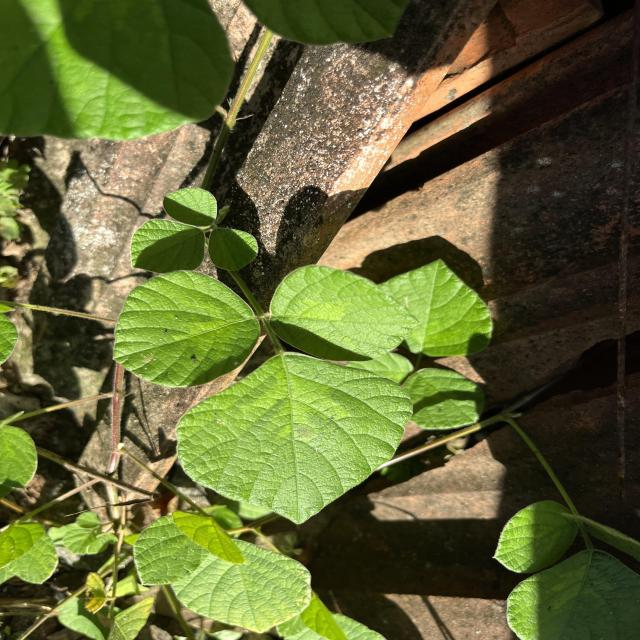Pseudarthria viscida: (110, 263, 428, 526), (129, 186, 260, 274)
